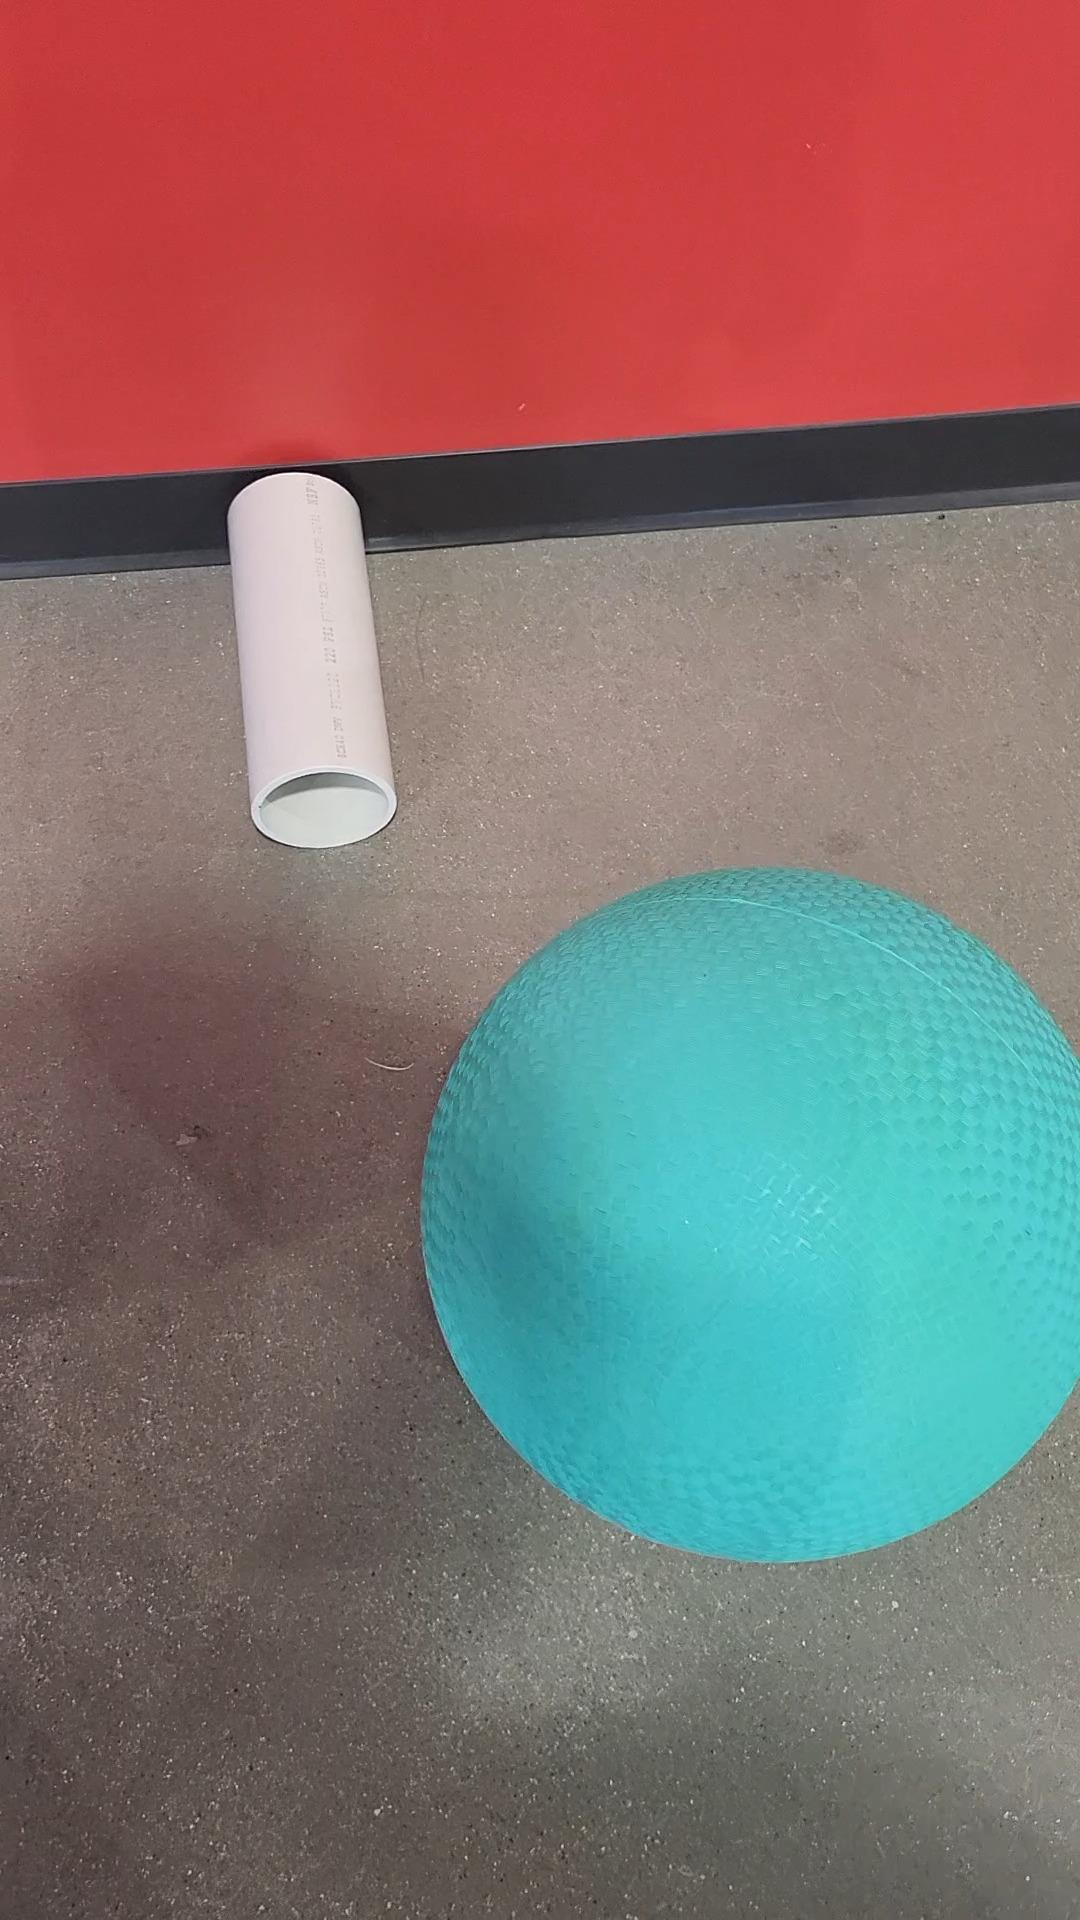algae: (426, 847, 1080, 1573)
coral: (231, 456, 455, 873)
